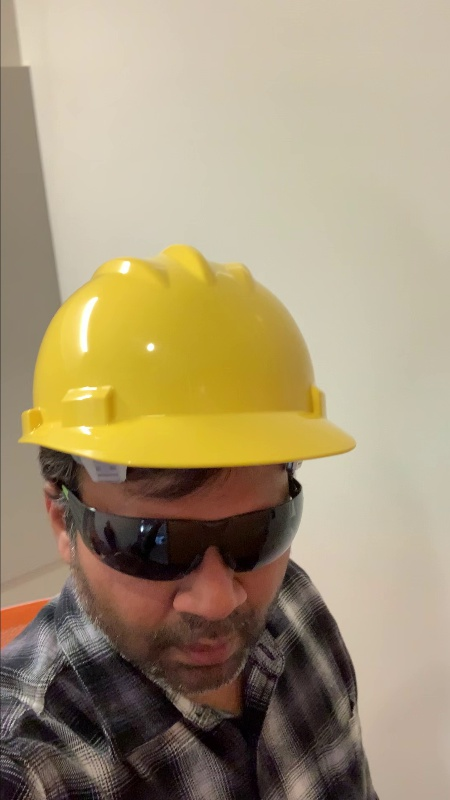glasses: (79, 491, 306, 587)
helmet: (16, 240, 368, 478)
